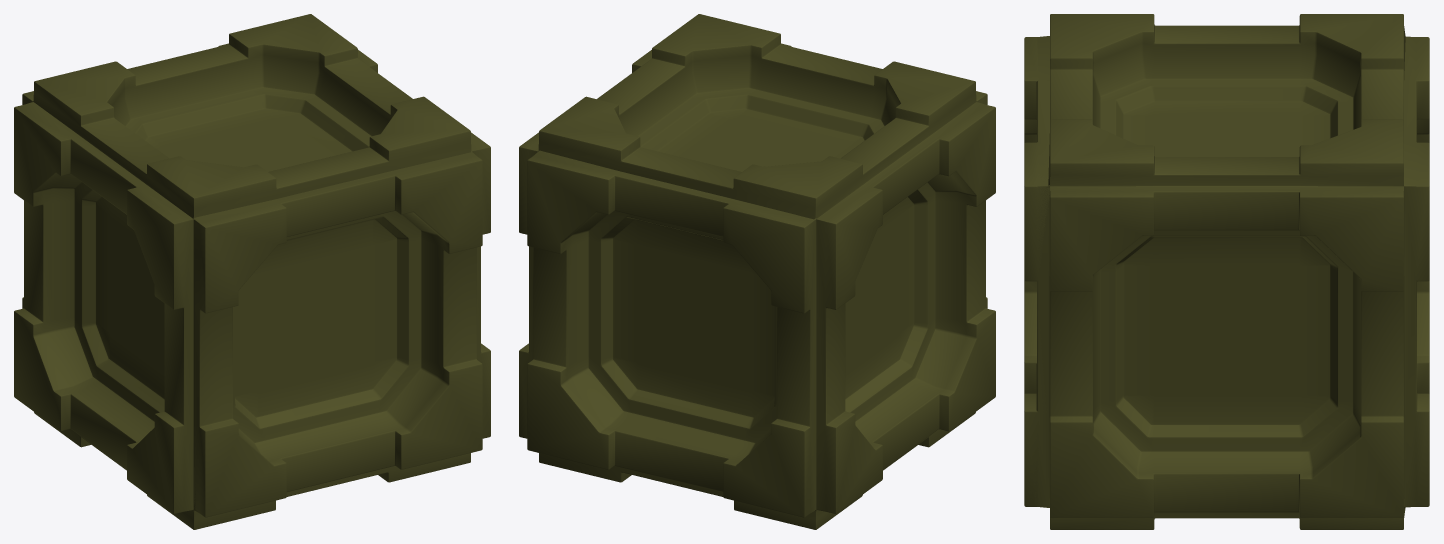
The model's file is Carton Box.FBX.
The picture shows the model from 3 angles, left to right: view 1: azimuth 30°, elevation 25°; view 2: azimuth 150°, elevation 25°; view 3: azimuth 270°, elevation 25°; orthographic projection. The views are drawn at different scales.
Parts seen in each view (by area): view 1: Carton Box Smooth; view 2: Carton Box Smooth; view 3: Carton Box Smooth.
Part boxes in pixels (<box>): Carton Box Smooth: <box>14,14,490,529</box>; Carton Box Smooth: <box>519,14,995,529</box>; Carton Box Smooth: <box>1024,14,1429,529</box>.
Bounding box in the file's own units: 26.39 × 26.39 × 26.39.
